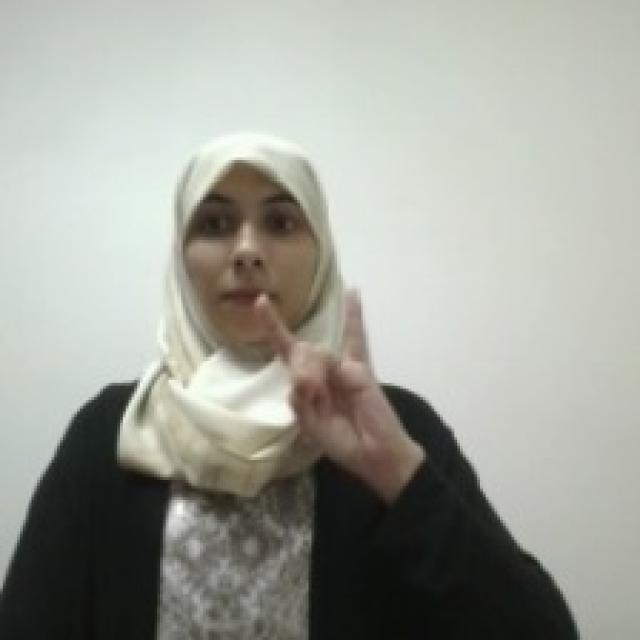No: (248, 284, 397, 475)
